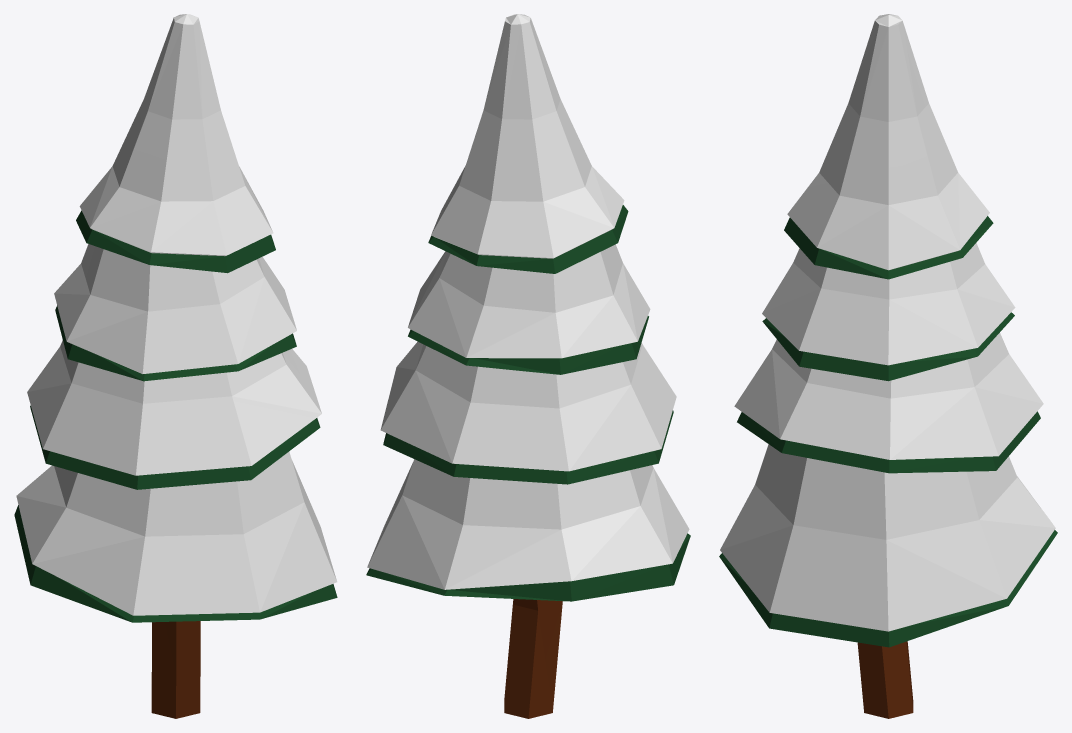
Rendered from WinterTree6.glb.
The picture shows the model from 3 angles, left to right: view 1: azimuth 30°, elevation 25°; view 2: azimuth 150°, elevation 25°; view 3: azimuth 270°, elevation 25°; orthographic projection.
Parts seen in each view (by area): view 1: Tree_Winter_015; view 2: Tree_Winter_015; view 3: Tree_Winter_015.
Boxes of the visible parts, bbox=[...] form: Tree_Winter_015: bbox=[14, 14, 337, 718]; Tree_Winter_015: bbox=[366, 14, 690, 718]; Tree_Winter_015: bbox=[719, 14, 1057, 718].
Size of the model in its own units: 2.61 by 5.92 by 2.61.
1 material, 1 textured.
